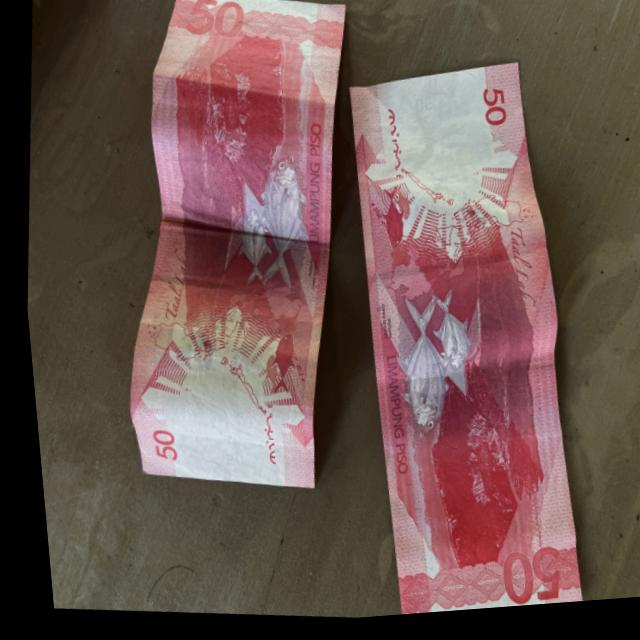50_maliputo: (377, 281, 485, 459), (211, 150, 321, 305)
50_maliputo_watermark: (245, 315, 304, 416), (365, 182, 417, 263)
value_watermark: (408, 91, 436, 126)
watermark: (381, 69, 506, 215)
